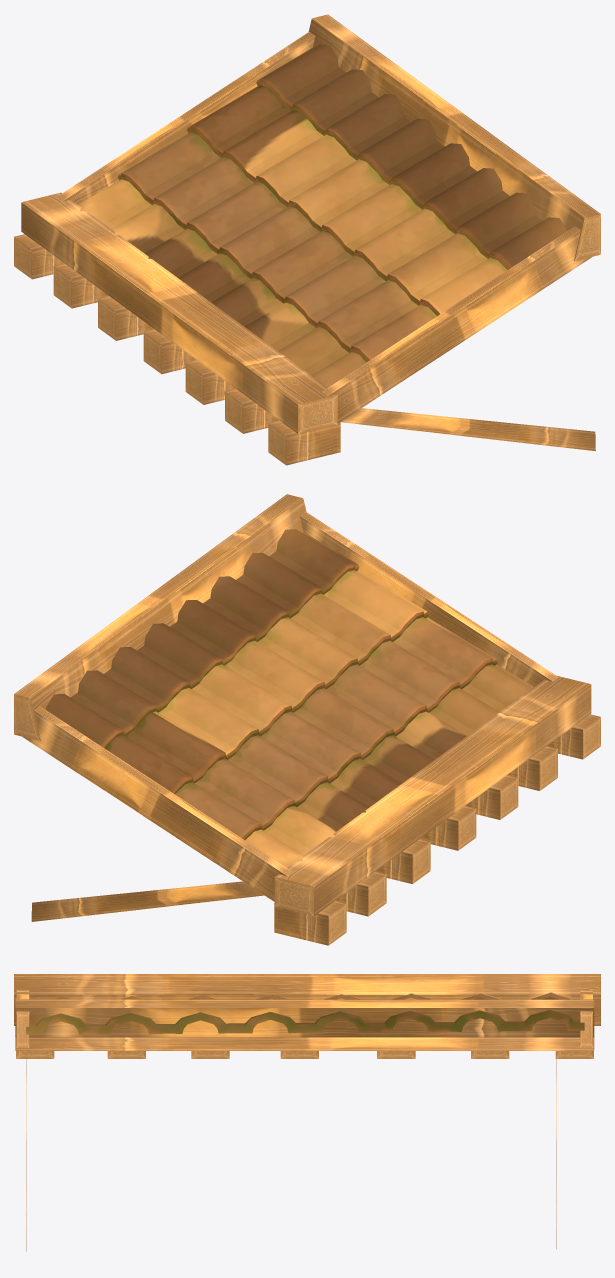
Rendered from SM_Wood_Awning_01.fbx.
The picture shows the model from 3 angles, top to bottom: view 1: azimuth 30°, elevation 25°; view 2: azimuth 150°, elevation 25°; view 3: azimuth 270°, elevation 25°; orthographic projection. The views are drawn at different scales.
Parts seen in each view (by area): view 1: SM_Wood_Awning_01_LOD0; view 2: SM_Wood_Awning_01_LOD0; view 3: SM_Wood_Awning_01_LOD0.
Boxes of the visible parts, left/top/right/bottom form: SM_Wood_Awning_01_LOD0: left=14, top=14, right=600, bottom=465; SM_Wood_Awning_01_LOD0: left=14, top=494, right=600, bottom=945; SM_Wood_Awning_01_LOD0: left=14, top=974, right=600, bottom=1251.
Size of the model in its own units: 171 by 261 by 125.
